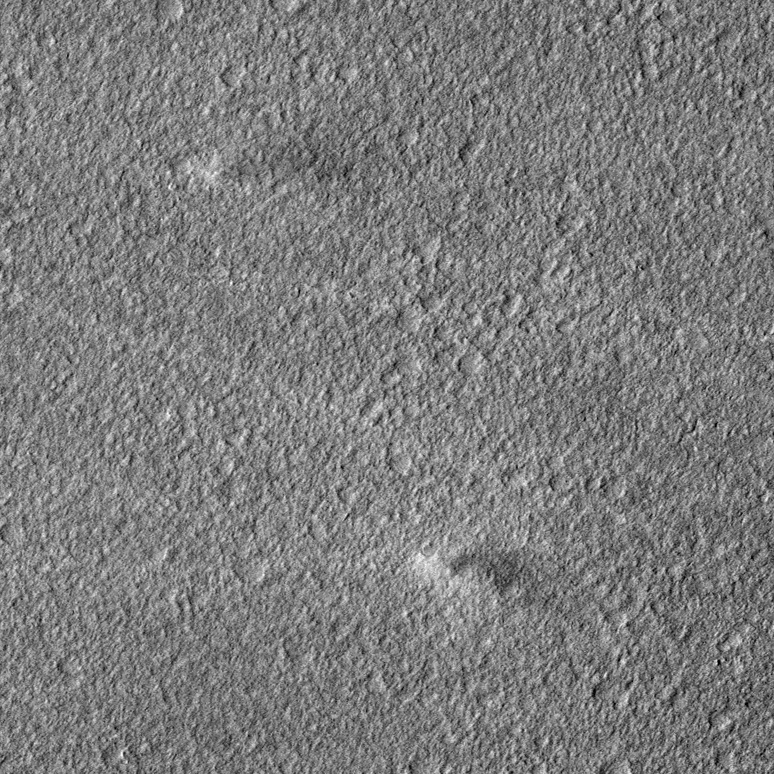dust_devil: (403, 543, 559, 610), (181, 141, 358, 195)
